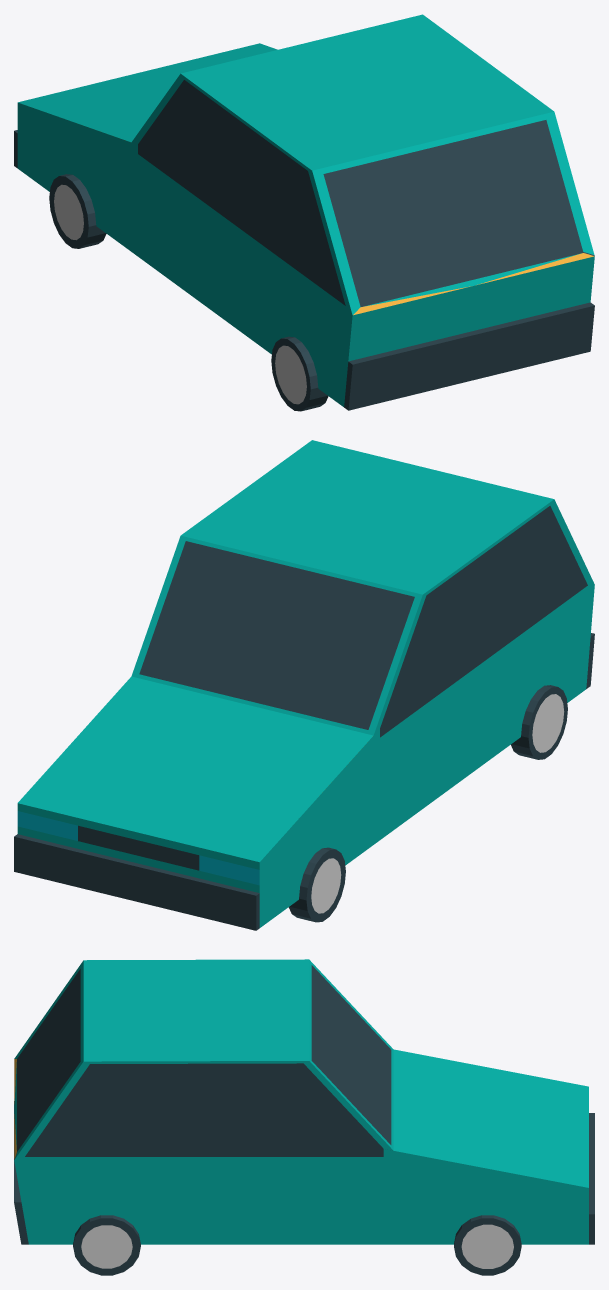
Rendered from CarTirkiz1x1.fbx.
The picture shows the model from 3 angles, top to bottom: view 1: azimuth 30°, elevation 25°; view 2: azimuth 150°, elevation 25°; view 3: azimuth 270°, elevation 25°; orthographic projection. The views are drawn at different scales.
Visible parts, largest first — view 1: CAR_03_2_3; view 2: CAR_03_2_3; view 3: CAR_03_2_3.
Boxes of the visible parts, x1=… form: CAR_03_2_3: x1=14, y1=14, x2=594, y2=411; CAR_03_2_3: x1=14, y1=440, x2=594, y2=930; CAR_03_2_3: x1=14, y1=959, x2=594, y2=1275.
Size of the model in its own units: 0.4304 by 0.3941 by 0.9813.
Materials: 1 (1 with a texture image).
